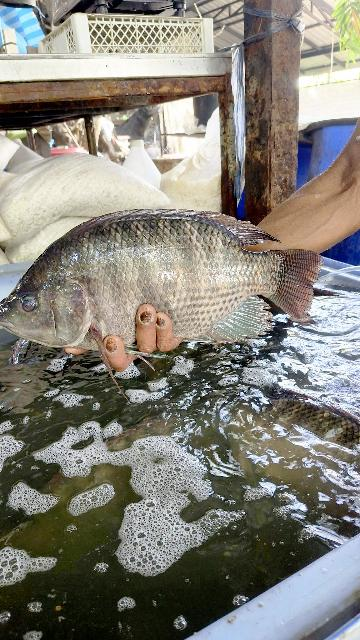Aeromonas Septicemia: (0, 211, 323, 356), (0, 209, 321, 349)
